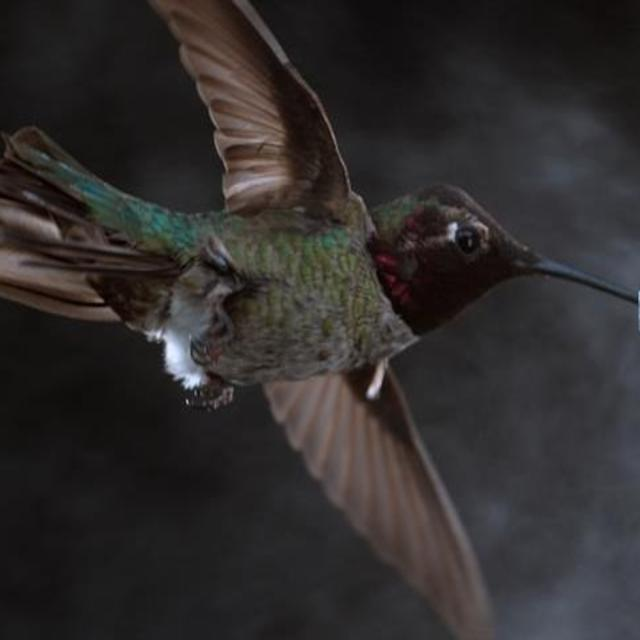Humming Bird: (1, 3, 619, 634)
